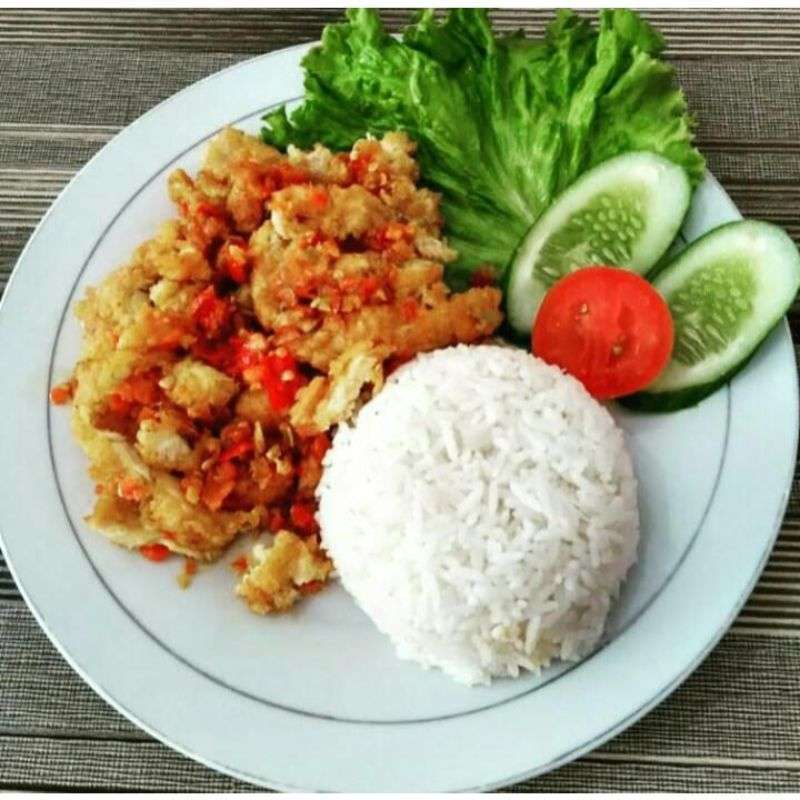ayam_geprek: (76, 158, 478, 506)
